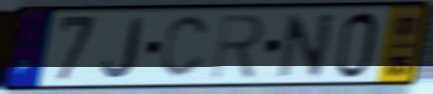0: (333, 10, 382, 81)
7: (56, 14, 99, 85)
C: (157, 13, 213, 82)
J: (101, 16, 145, 81)
N: (275, 11, 338, 81)
R: (208, 12, 267, 82)
